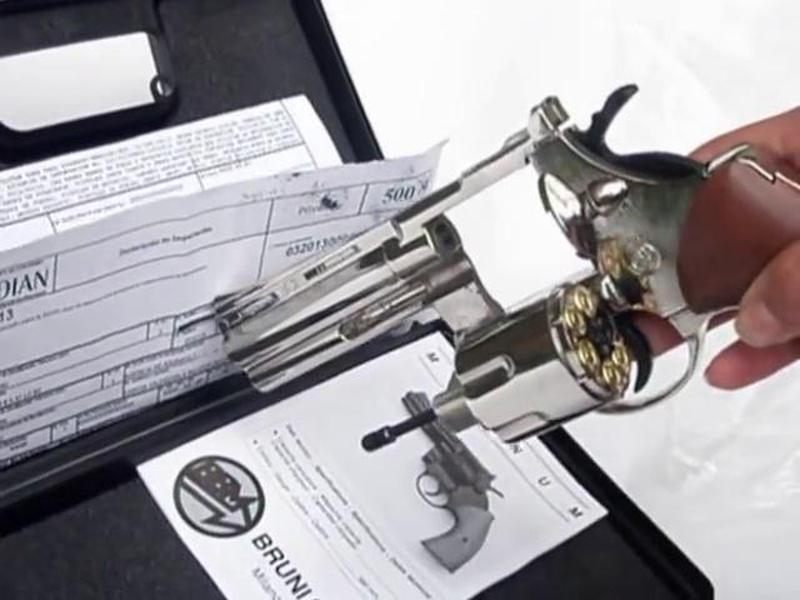Revolver: (202, 106, 800, 418)
